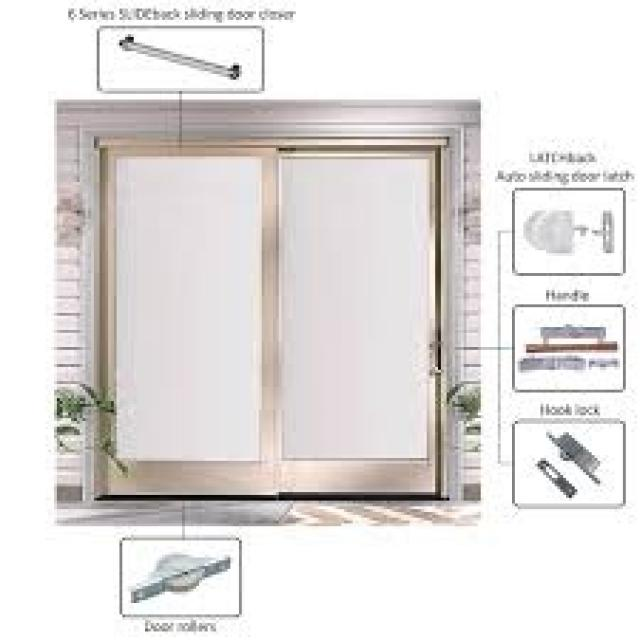door: (97, 137, 449, 500)
